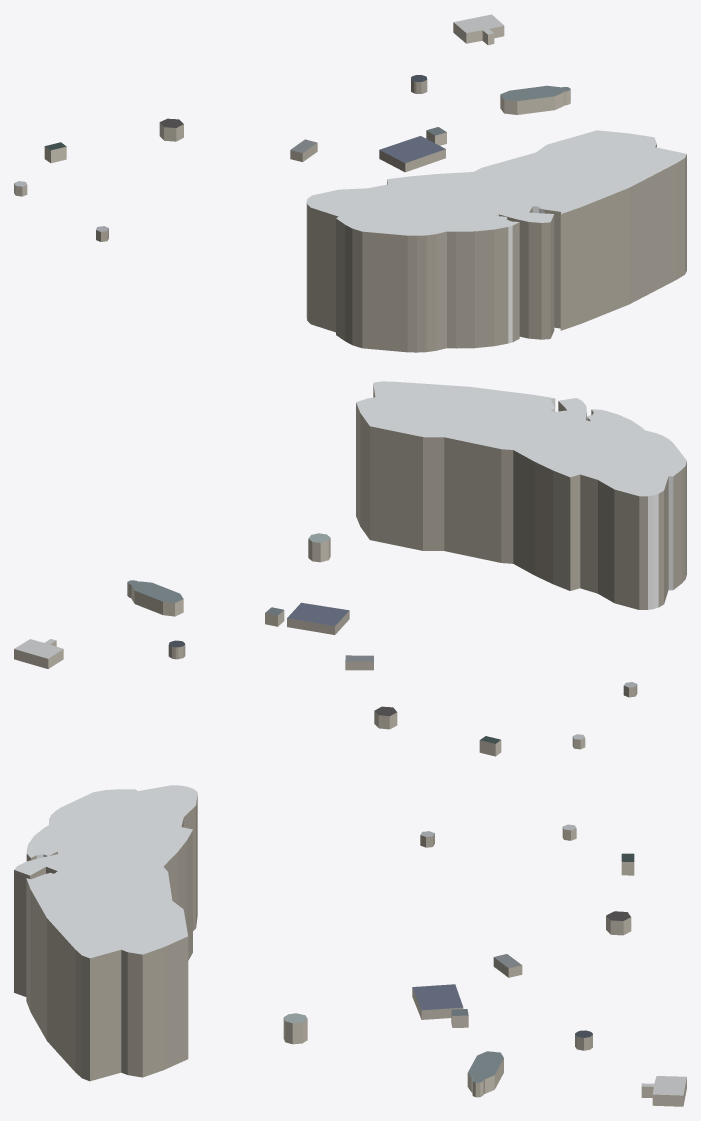
3 views of the same model, one above another, from view 1: azimuth 30°, elevation 25°; view 2: azimuth 150°, elevation 25°; view 3: azimuth 270°, elevation 25° (orthographic). The views are drawn at different scales.
Visible parts, largest first — view 1: tuile; view 2: tuile; view 3: tuile.
Boxes of the visible parts, x1,y1,x2,y2 form: tuile: (14,14,686,352); tuile: (14,381,686,756); tuile: (14,785,686,1106).
Size of the model in its own units: 237 by 49.82 by 247.
